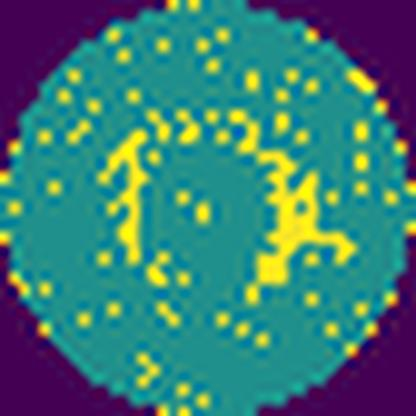Donut: (92, 99, 362, 318)
